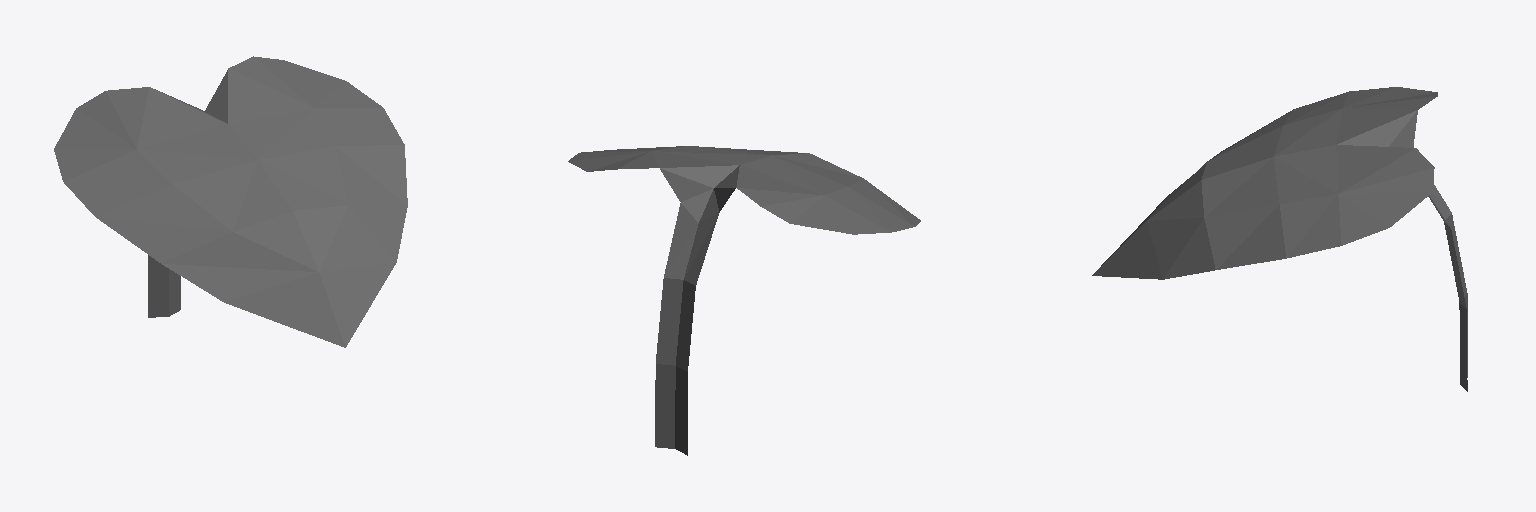
Rendered from Leaf_1.obj.
The picture shows the model from 3 angles: view 1: azimuth 30°, elevation 25°; view 2: azimuth 150°, elevation 25°; view 3: azimuth 270°, elevation 25°; orthographic projection.
Visible parts, largest first — view 1: Plane009; view 2: Plane009; view 3: Plane009.
Part boxes in pixels (bbox=[...]): Plane009: bbox=[54, 56, 407, 347]; Plane009: bbox=[568, 146, 920, 455]; Plane009: bbox=[1092, 87, 1467, 391].
Size of the model in its own units: 0.9081 by 0.7006 by 0.936.